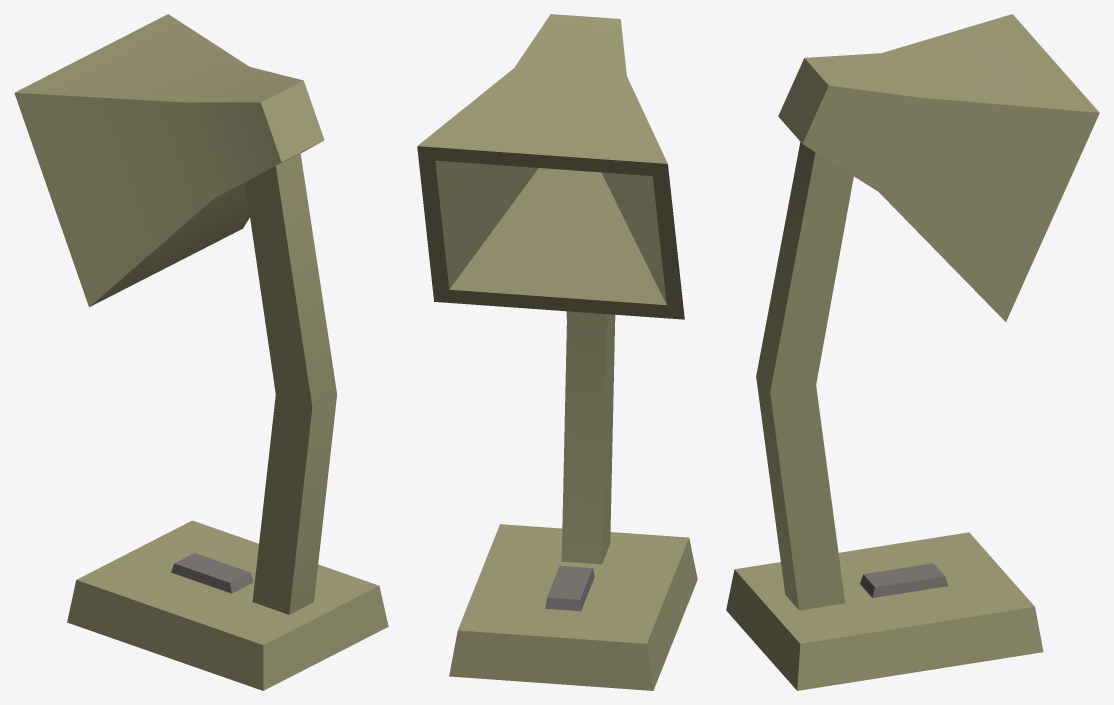
Rendered from SM_Lamp_01.FBX.
3 views of the same model, side by side, from view 1: azimuth 30°, elevation 25°; view 2: azimuth 150°, elevation 25°; view 3: azimuth 270°, elevation 25° (orthographic). The views are drawn at different scales.
Visible parts, largest first — view 1: SM_Lamp_01; view 2: SM_Lamp_01; view 3: SM_Lamp_01.
Part boxes in pixels (x1,y1,x2,y2): SM_Lamp_01: [14, 14, 388, 690]; SM_Lamp_01: [417, 14, 697, 690]; SM_Lamp_01: [726, 14, 1099, 690].
Size of the model in its own units: 31.54 by 36.59 by 61.6.
